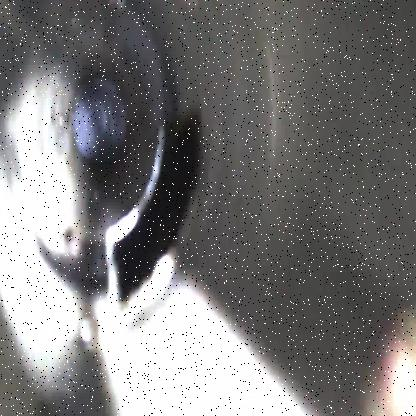Crack2: (104, 97, 204, 315)
